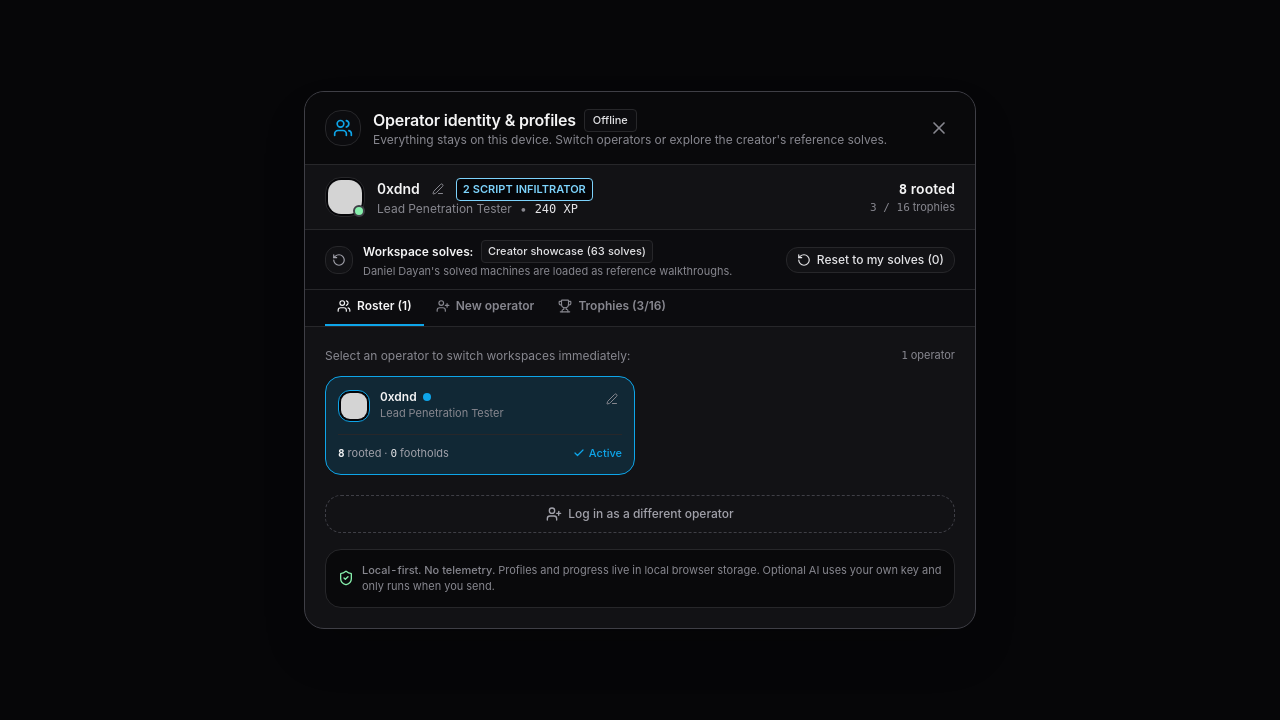
Scenario: OperatorProfileModal Hook Order & Lifecycle Fortification › allows canceling banner edit with Escape key without closing modal
The width and height of the screenshot is (1280, 720).
Click the button titled "Quick-Edit Active Callsign" at (438,189), box top-left (428, 179), bottom-right (448, 199)
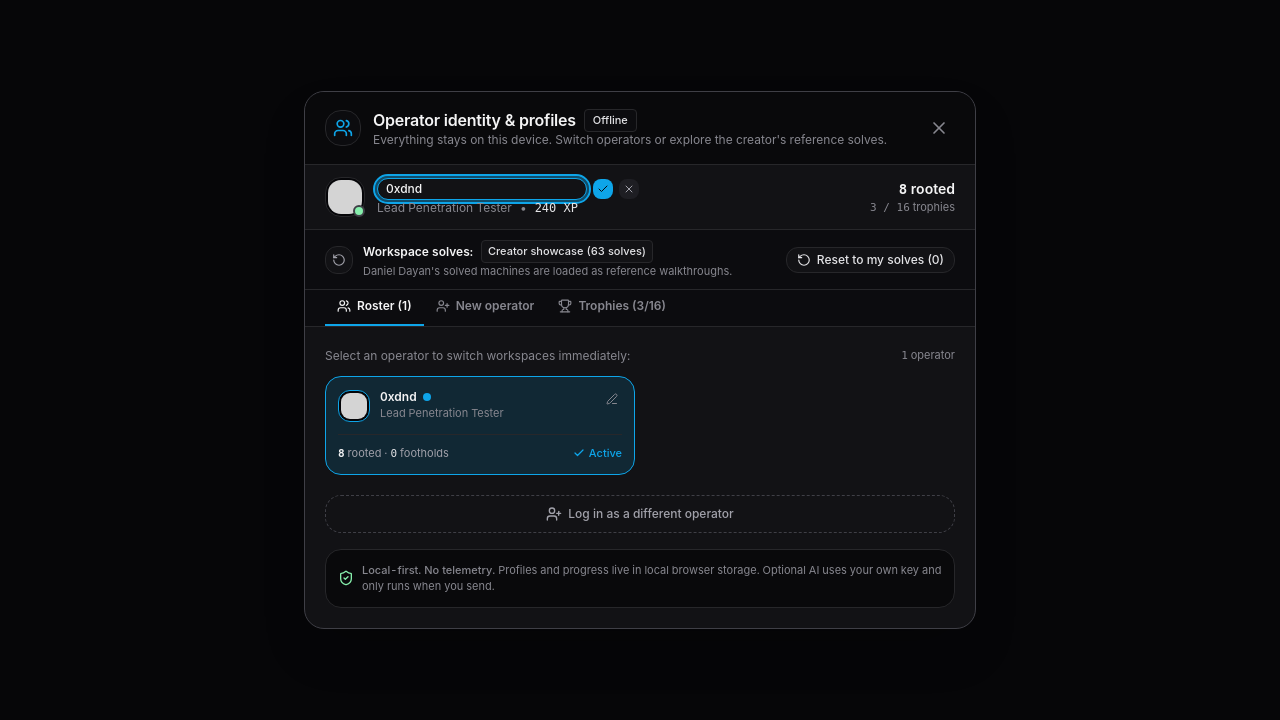
Replace the text in the field with placeholder "New Callsign" with "AbandonedCallsign" at (482,189), box top-left (377, 178), bottom-right (587, 200)
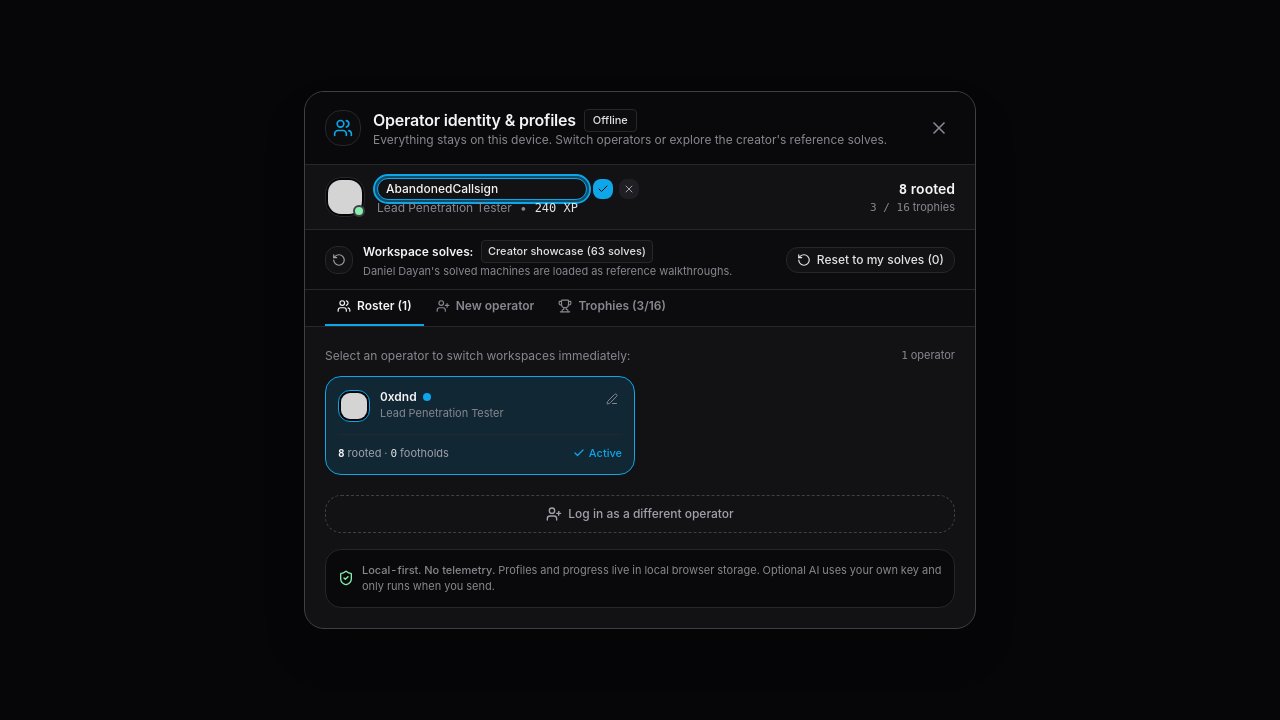
Press Escape in the field with placeholder "New Callsign", box top-left (377, 178), bottom-right (587, 200)
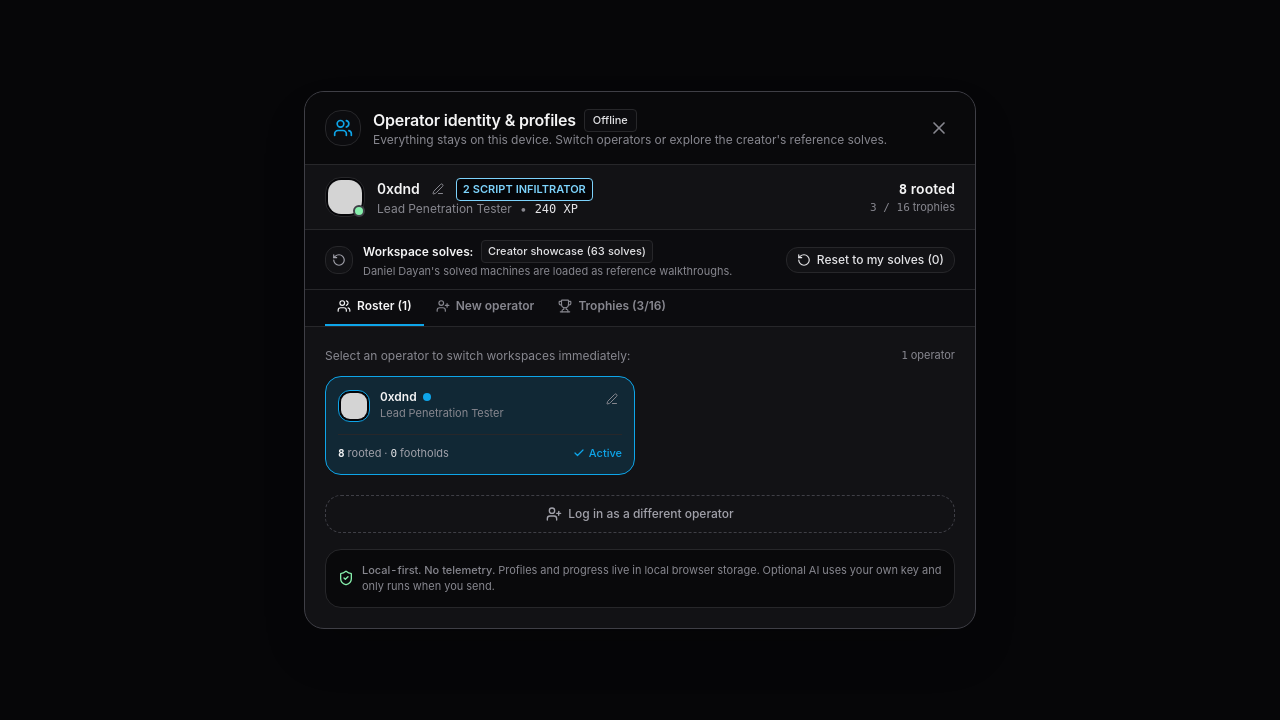
Result: the text "0xdnd" in the row of "SCRIPT INFILTRATOR" is shown at top-left (377, 180), bottom-right (420, 197)
